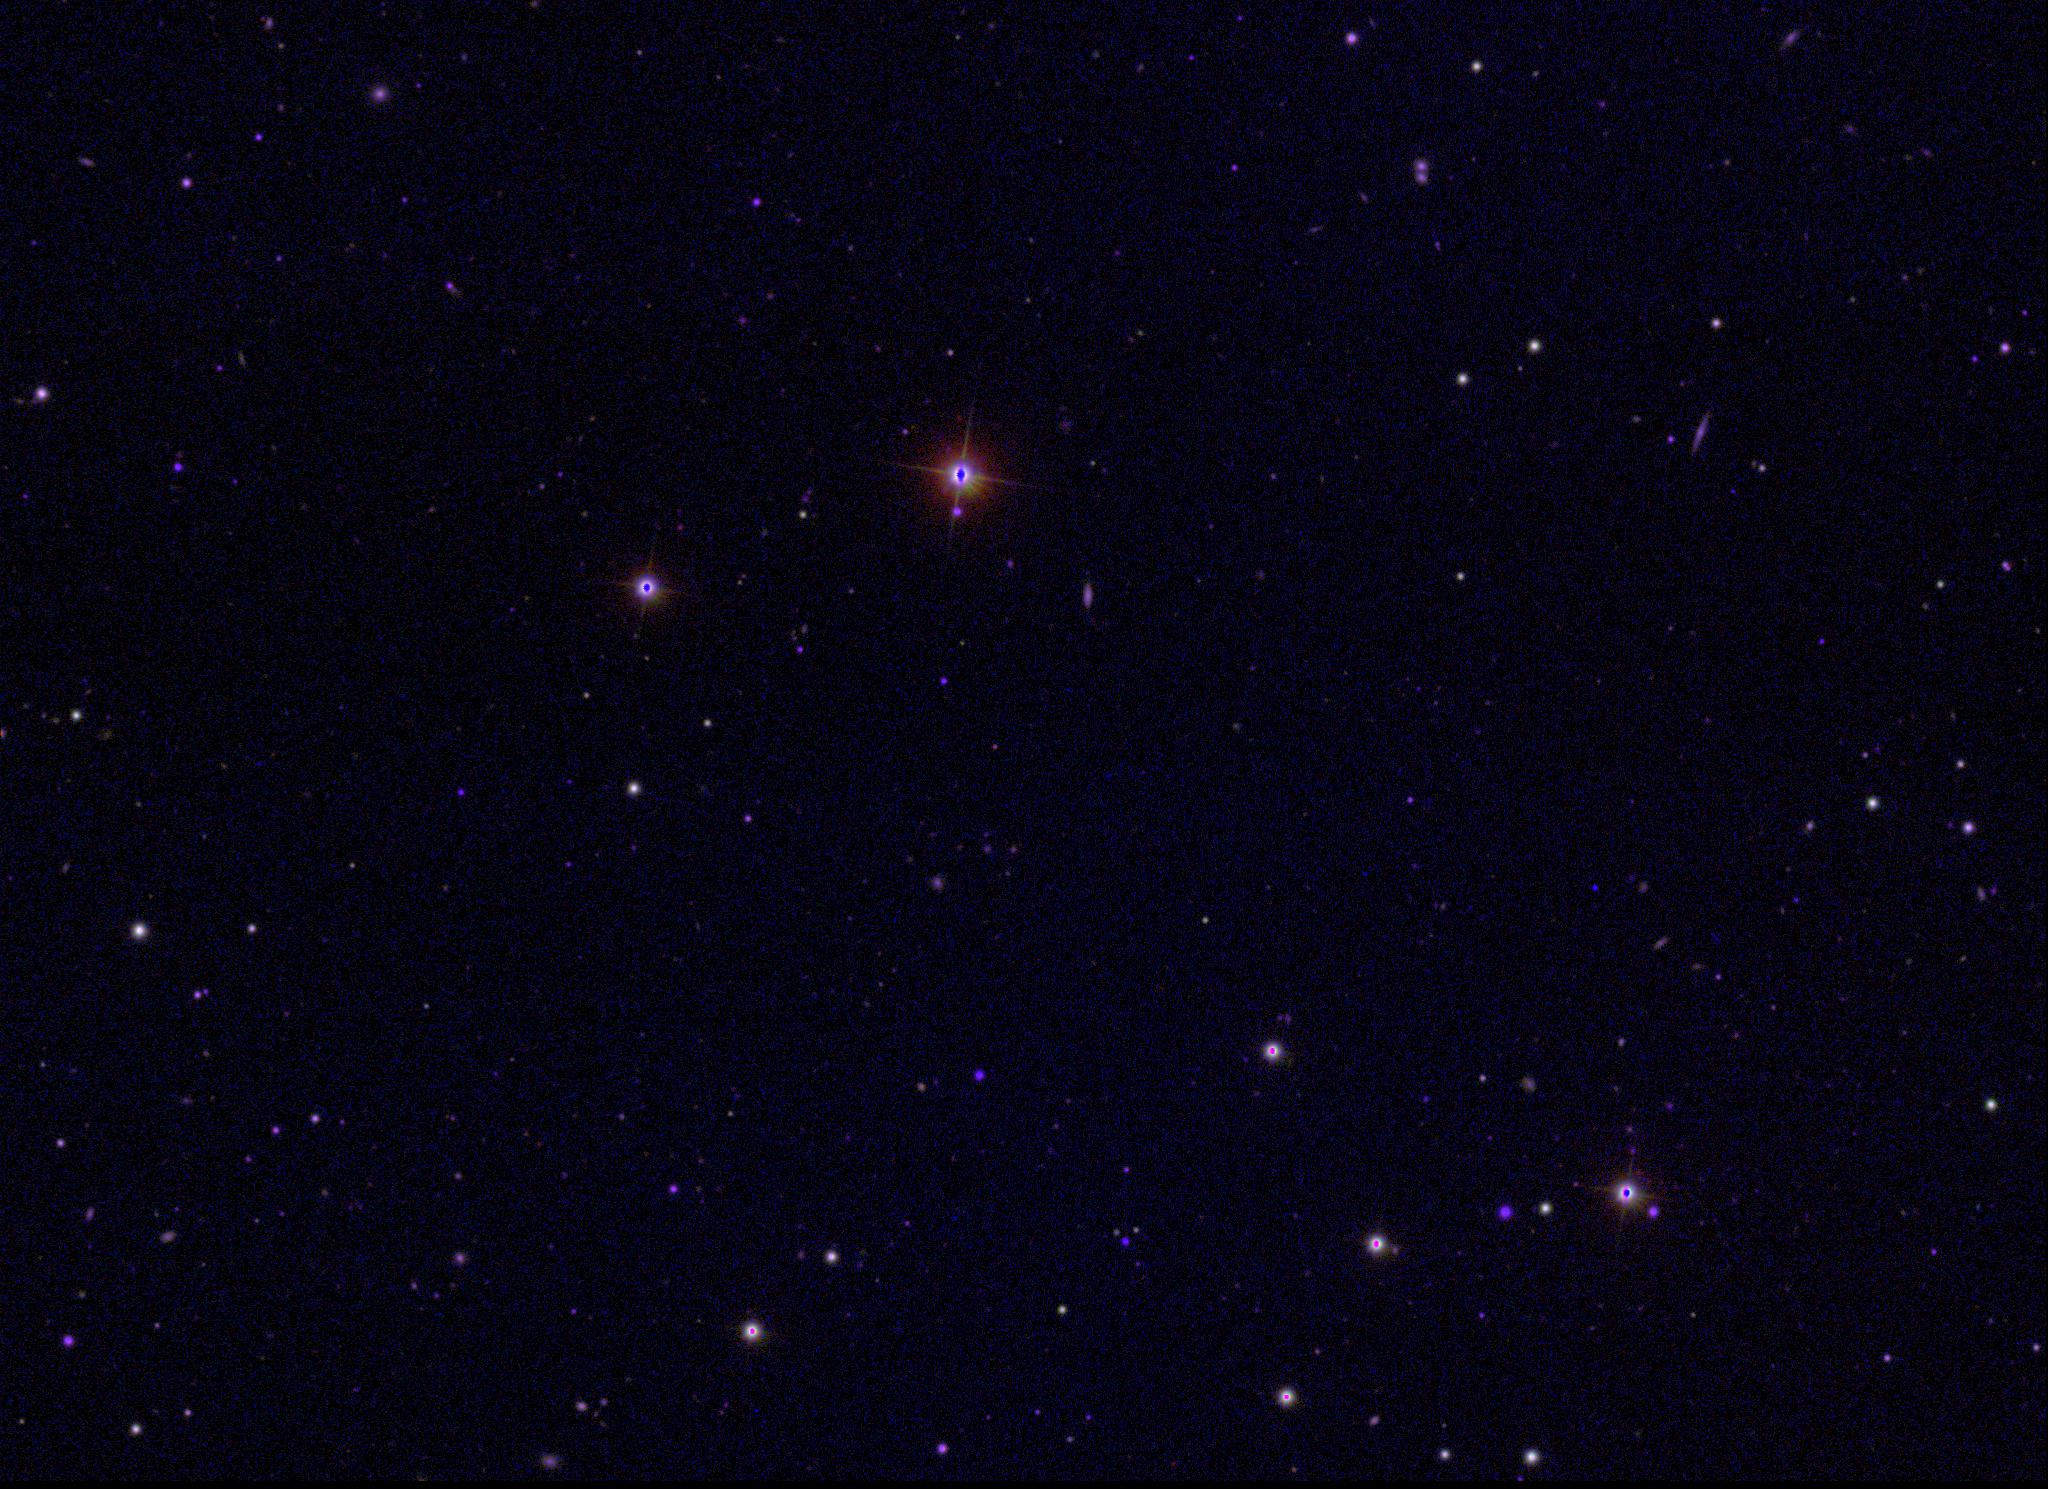L: (1588, 881, 1603, 896)
